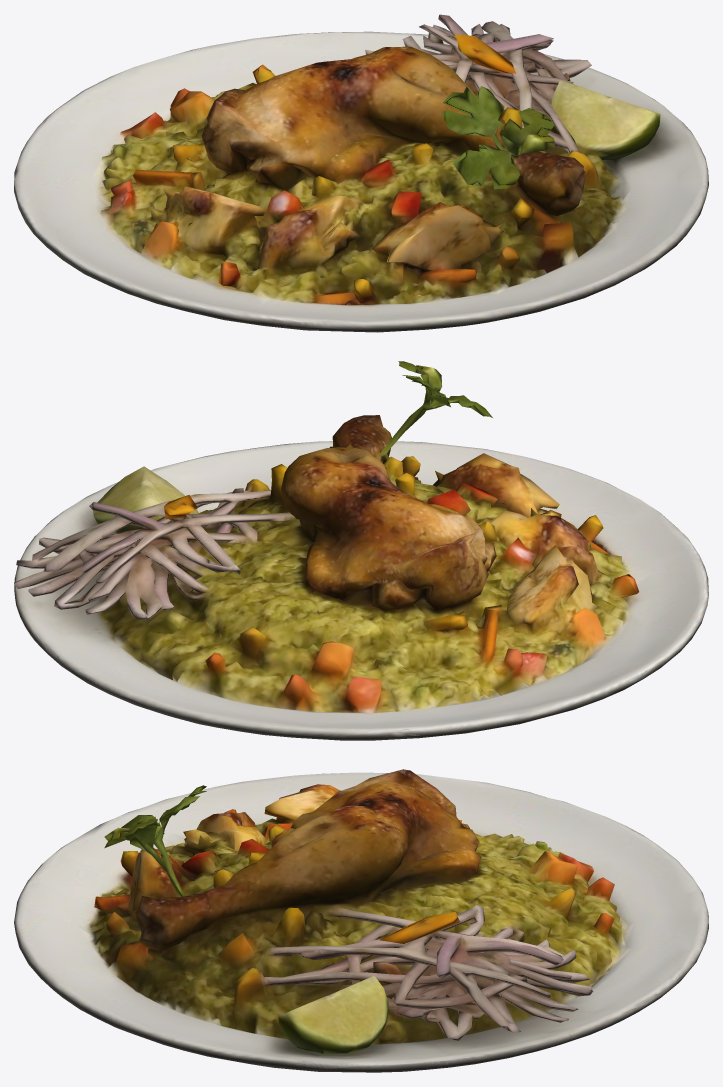
The model's file is arroz_con_pollo.glb.
3 renders of one model, top to bottom at view 1: azimuth 30°, elevation 25°; view 2: azimuth 150°, elevation 25°; view 3: azimuth 270°, elevation 25°, orthographic.
Visible parts, largest first — view 1: tripo_node_cbefb9c9-9465-4263-99a7-a0a057a812f9; view 2: tripo_node_cbefb9c9-9465-4263-99a7-a0a057a812f9; view 3: tripo_node_cbefb9c9-9465-4263-99a7-a0a057a812f9.
Boxes of the visible parts, x1,y1,x2,y2 form: tripo_node_cbefb9c9-9465-4263-99a7-a0a057a812f9: [14, 14, 708, 332]; tripo_node_cbefb9c9-9465-4263-99a7-a0a057a812f9: [14, 361, 708, 740]; tripo_node_cbefb9c9-9465-4263-99a7-a0a057a812f9: [14, 769, 708, 1072].
Bounding box in the file's own units: 0.9984 × 0.2974 × 1.
Materials: 1 (1 with a texture image).
